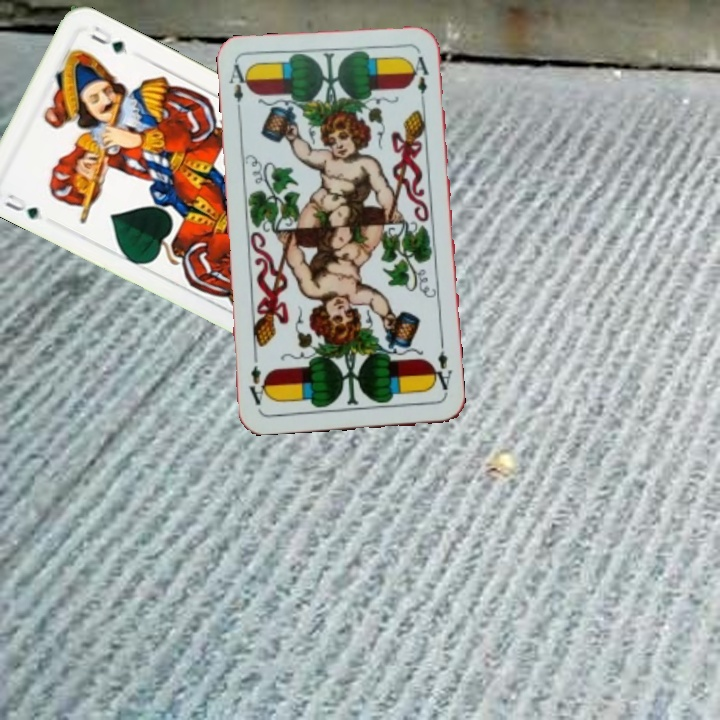EA: (427, 339, 455, 398), (225, 60, 252, 119)
GU: (1, 189, 41, 222)
